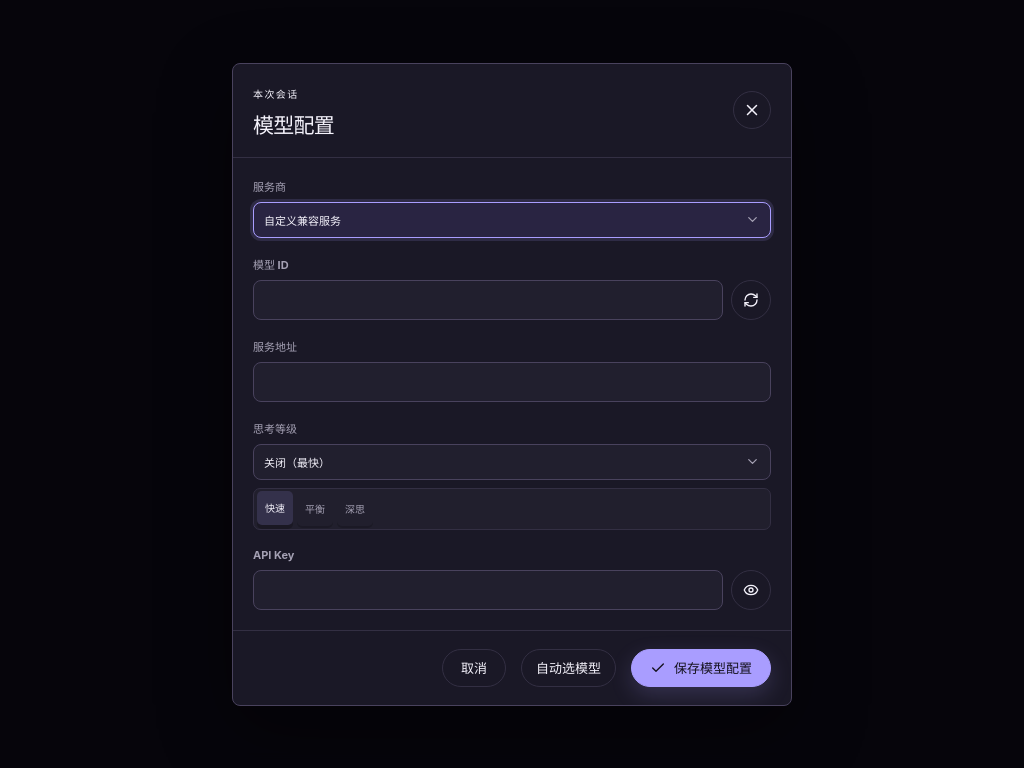
Test: ProviderDialog › ignores a model list returned for an old endpoint
Type "https://a.example.test/v1" into the field labelled "服务地址".
click(512, 382); type("https://a.example.test/v1")  # box [253,362,771,402]
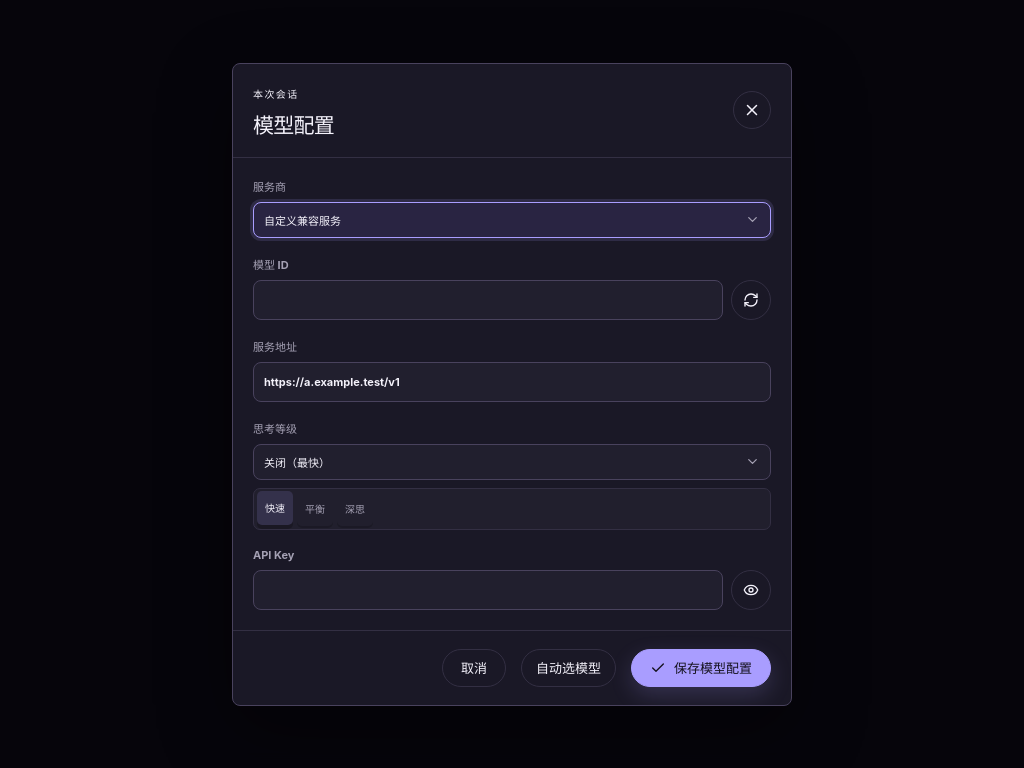
Click the button named "拉取模型列表".
click(751, 300)  # box [731,280,771,320]
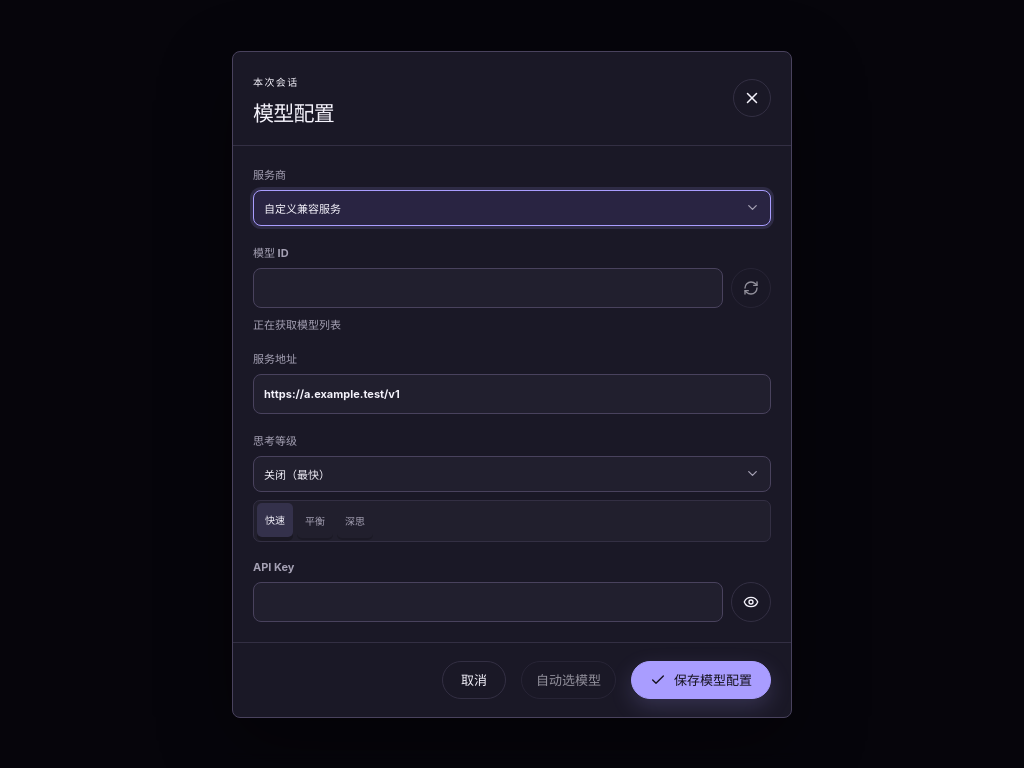
Result: the button named "拉取模型列表" is disabled at [731,268,771,308]
Result: the message reads "正在获取模型列表" at [253,318,341,332]
Replace the text in the field labelled "服务地址" with "https://b.example.test/v1" at (512, 394), box [253,374,771,414]
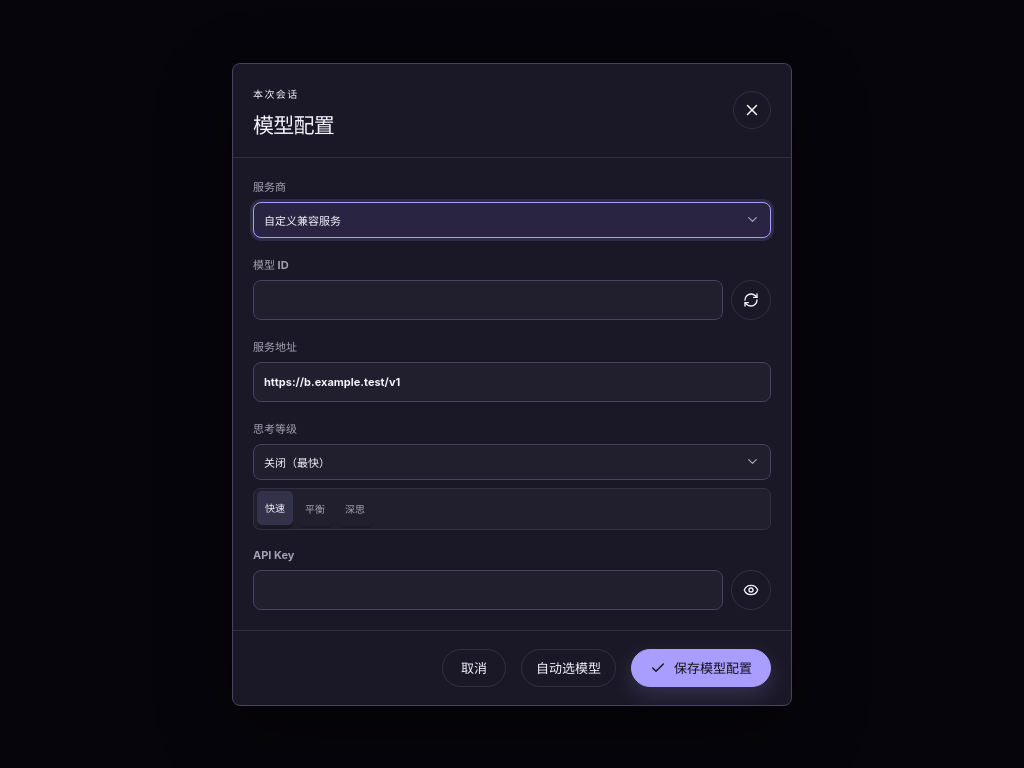
Result: the message "正在获取模型列表" is gone
